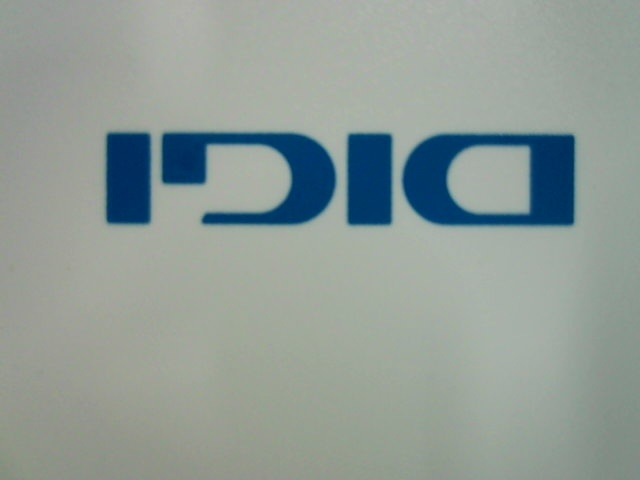BL_DIGI: (89, 115, 586, 230)
